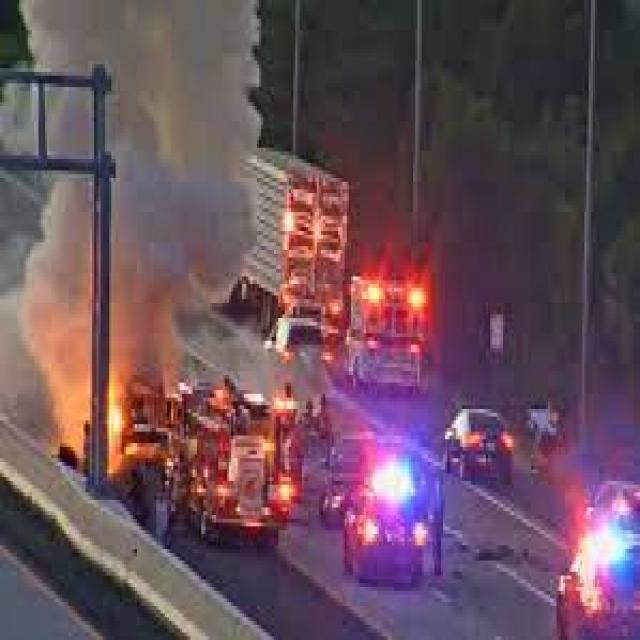fire: (107, 394, 126, 466)
smoke: (105, 84, 263, 382), (19, 174, 94, 454), (17, 4, 261, 79)
